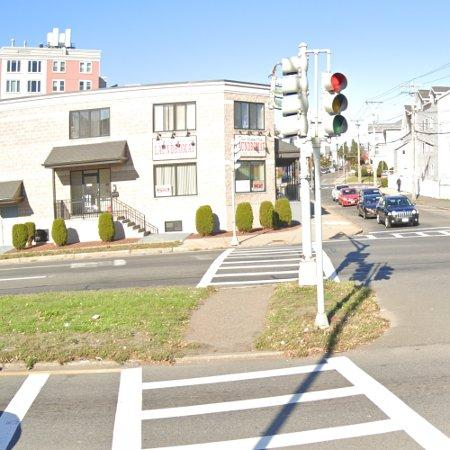traffic lights: (282, 44, 309, 138)
